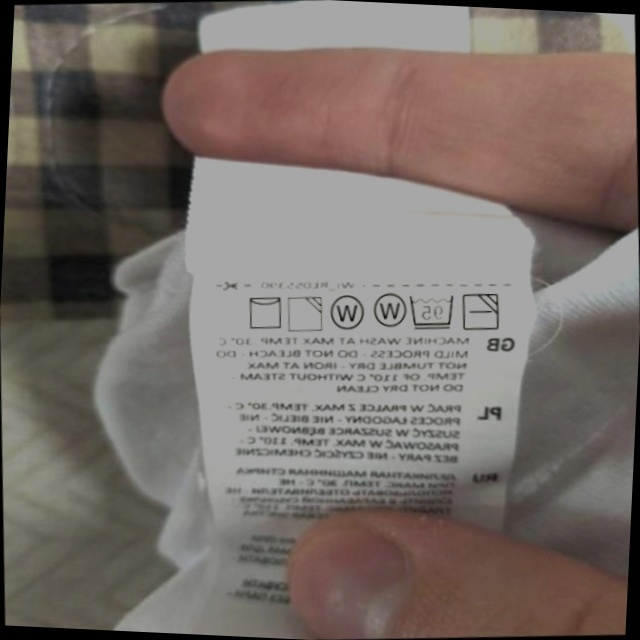95C: (406, 289, 458, 333)
dry_flat_in_shade: (459, 288, 503, 334)
line_dry: (243, 291, 286, 333)
shade_dry: (284, 292, 326, 335)
wet_clean: (327, 291, 367, 335), (369, 287, 408, 331)
